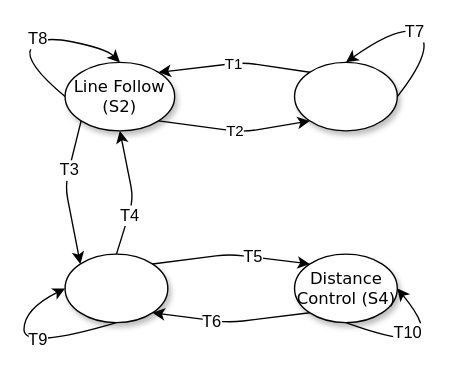
This 449x375 diagram has some shape labels left out. Here are the shapes that lost their labels. From the top down, the centre of each, then its label:
At (x=347, y=97): "Stopped (S1)".
At (x=117, y=289): "Angle Control (S3)".
